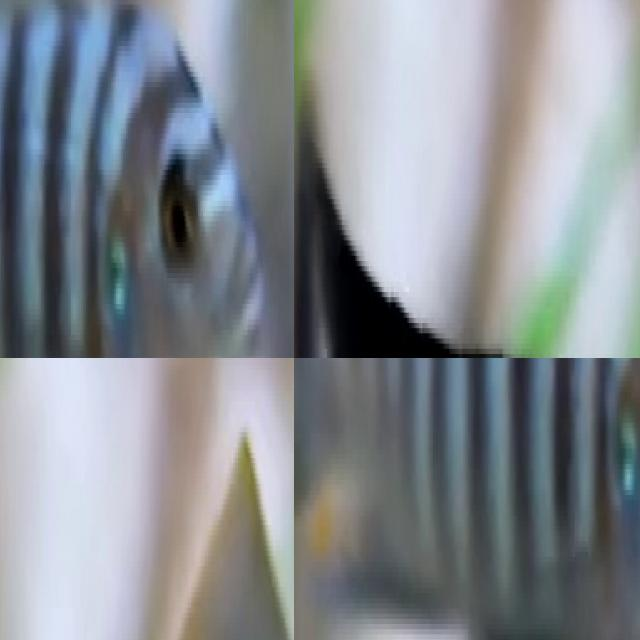fish: (294, 49, 640, 358), (0, 0, 294, 358), (294, 358, 640, 640)
